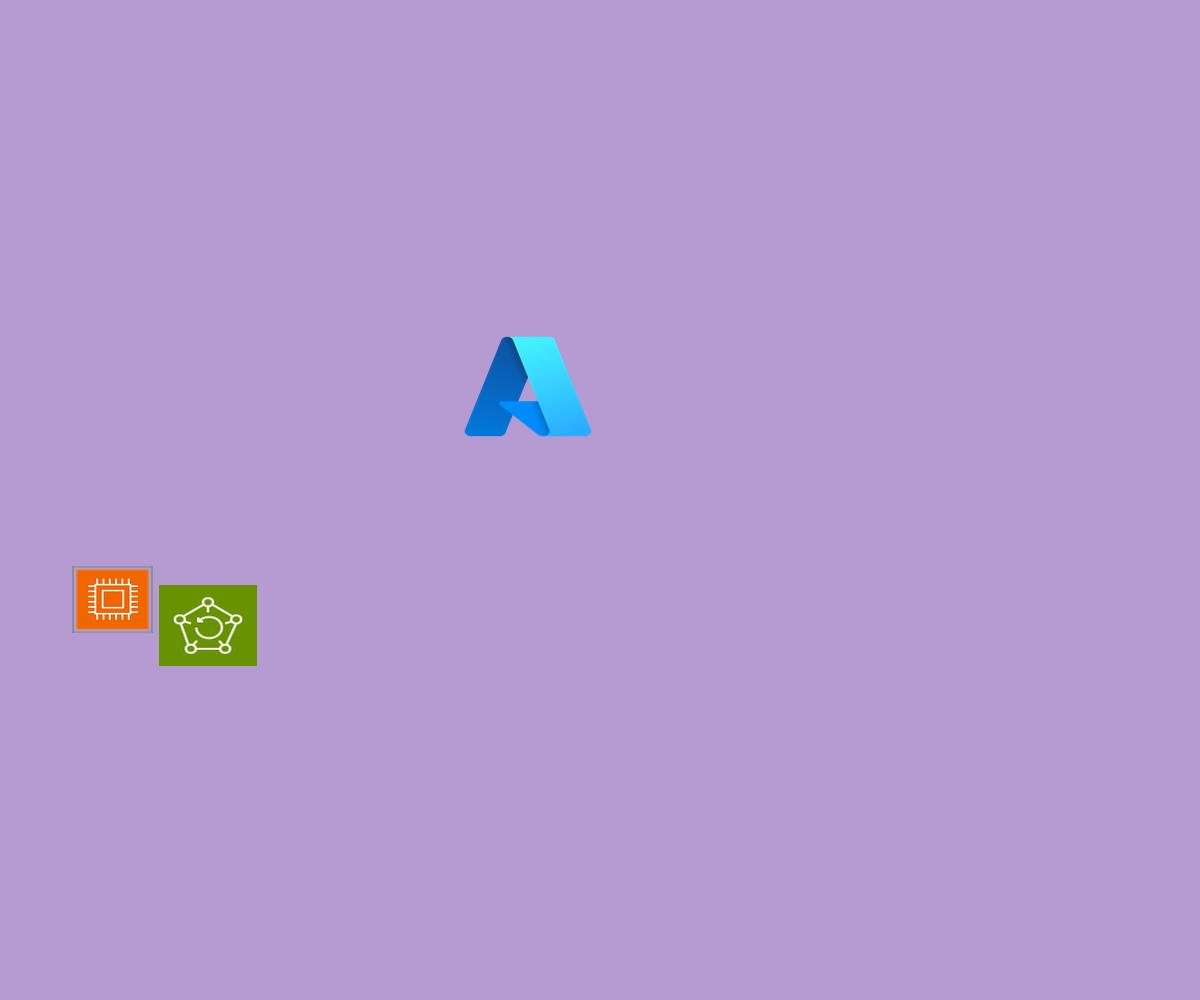AWS-Backup: (159, 585, 257, 666)
AWS-Category_Compute: (72, 566, 153, 633)
Azure_services: (459, 329, 597, 444)
